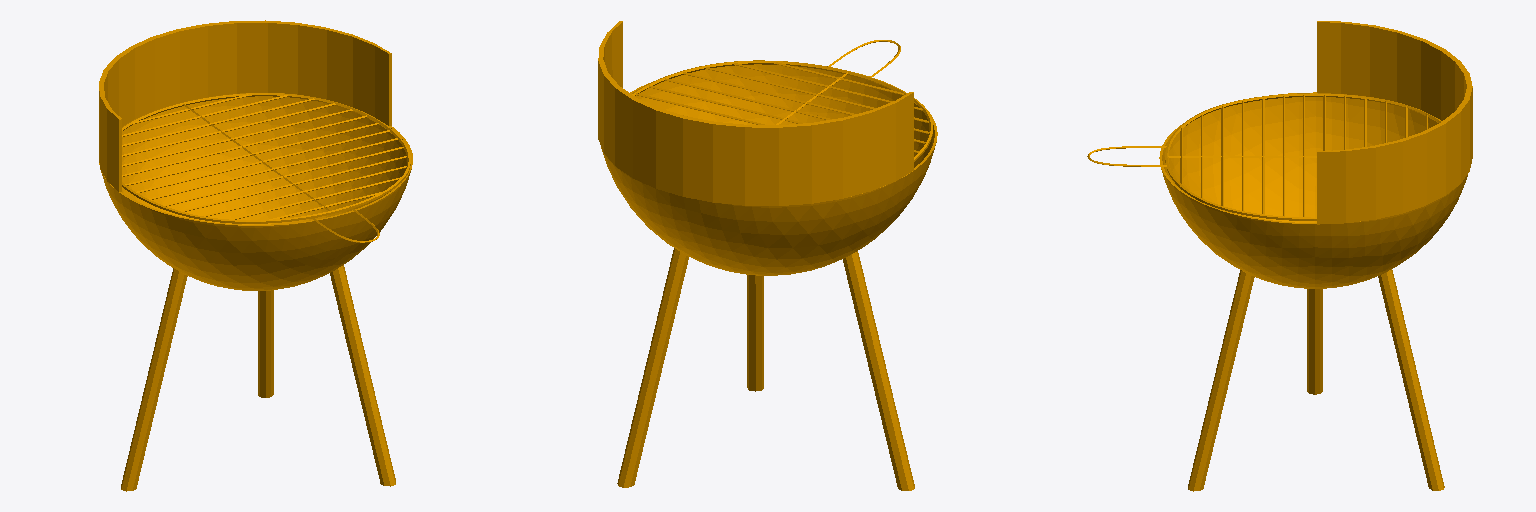
robot.urdf — none:
<robot name="none">
       <link name="none">
           <visual>
               <origin rpy="1.57 0 0" xyz="0 0 0" />
               <geometry>
                   <mesh filename="barbecue.obj" />
               </geometry>
           </visual>
          <collision>
              <geometry>
                  <box size="0.771526 1.000000 0.951806" />
              </geometry>
          </collision>

          <inertial>
            <mass value="0.0" />
            <inertia ixx="0.0" ixy="0.0" ixz="0.0" iyy="0.0" iyz="0.0" izz="0.0" />
          </inertial>
      </link>
  </robot>

--- What the picture shows (computed from the rendered views, not written in the file) ---
Views: 3 orthographic renders of the robot side by side, from view 1: azimuth 30°, elevation 25°; view 2: azimuth 150°, elevation 25°; view 3: azimuth 270°, elevation 25°.
Robot: none — 1 links, 0 joints (none); root link none; default pose: every joint at zero.
Links seen in each view (by area): view 1: none; view 2: none; view 3: none.
Boxes of the visible links, x1=… form: none: x1=99, y1=20, x2=412, y2=491; none: x1=598, y1=21, x2=937, y2=490; none: x1=1087, y1=21, x2=1472, y2=491.
Size in the robot's own frame: 0.7715 by 0.952 by 1 metres.
1 mesh visuals loaded from 1 distinct referenced files (1 OBJ).